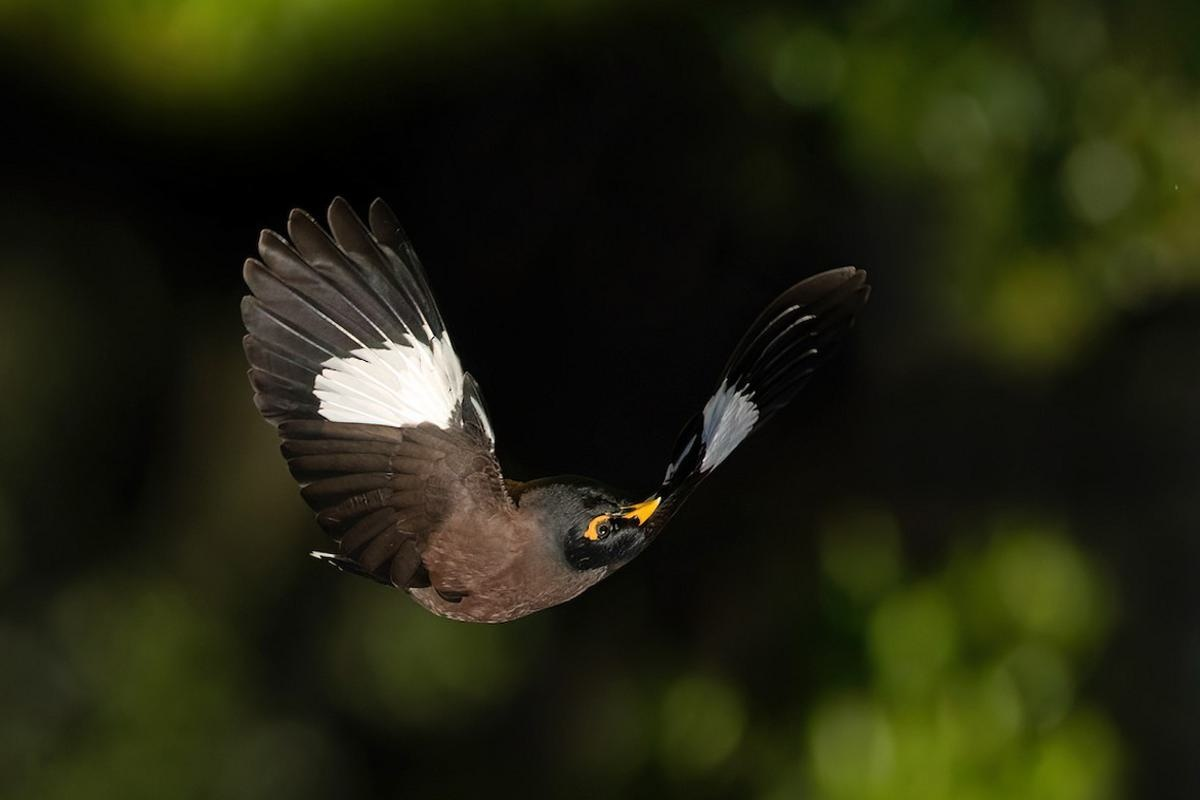myna: (223, 167, 888, 687)
